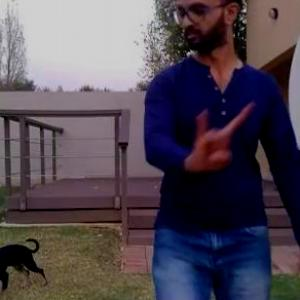takeoff-hand: (182, 96, 260, 180)
